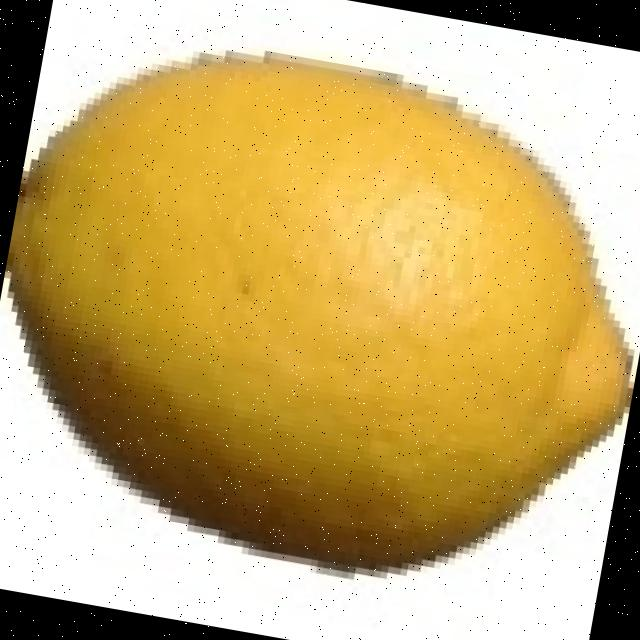lemon: (5, 56, 633, 570)
